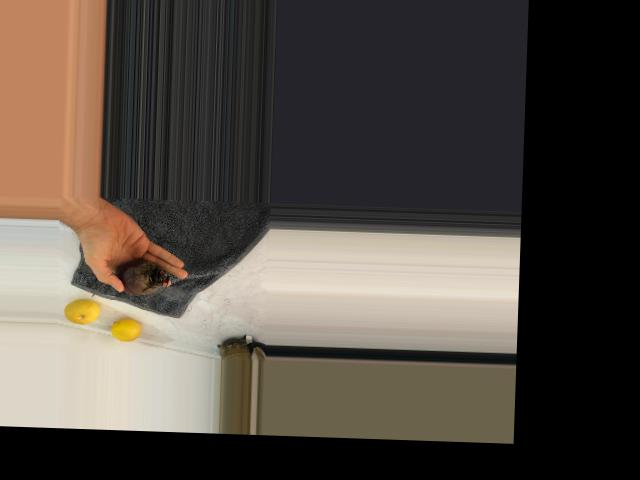beet: (91, 257, 169, 299)
